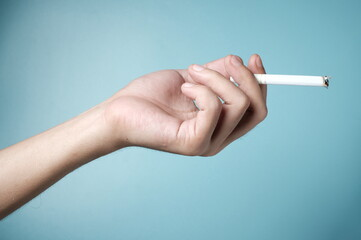cigarette: (226, 69, 336, 93)
